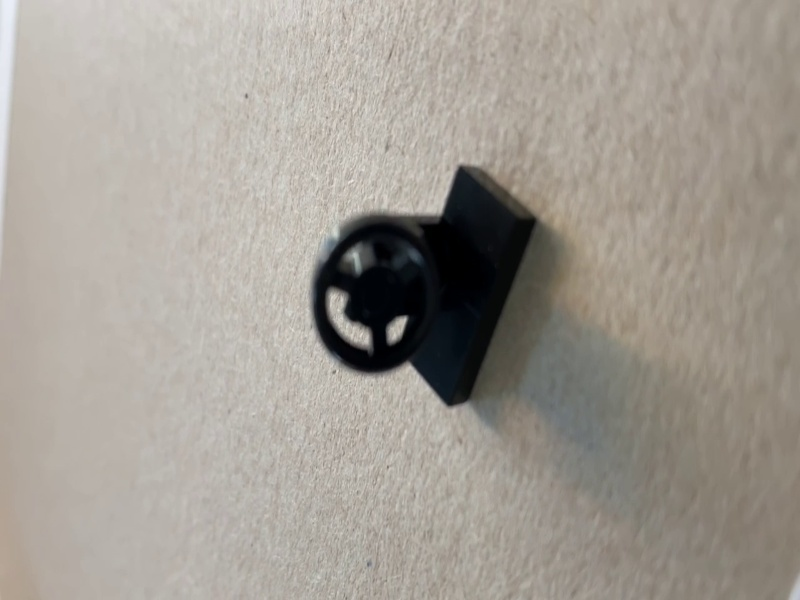steering wheel: (312, 164, 539, 408)
